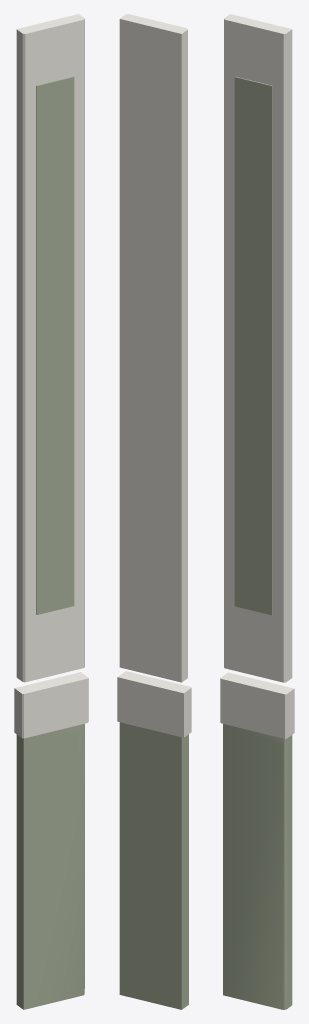
The model's file is pilaster_g_b.glb.
3 views of the same model, side by side, from view 1: azimuth 30°, elevation 25°; view 2: azimuth 150°, elevation 25°; view 3: azimuth 330°, elevation 25° (orthographic).
Visible parts, largest first — view 1: pilaster_g_b_acc_b, pilaster_g_b_trim; view 2: pilaster_g_b_trim, pilaster_g_b_acc_b; view 3: pilaster_g_b_acc_b, pilaster_g_b_trim.
Part boxes in pixels (x1,y1,x2,y2): pilaster_g_b_acc_b: (16,76,84,1009); pilaster_g_b_trim: (14,14,88,738); pilaster_g_b_trim: (117,14,191,737); pilaster_g_b_acc_b: (119,722,188,1009); pilaster_g_b_acc_b: (223,76,292,1009); pilaster_g_b_trim: (220,14,294,738).
Size of the model in its own units: 0.32 by 4.5 by 0.07.
